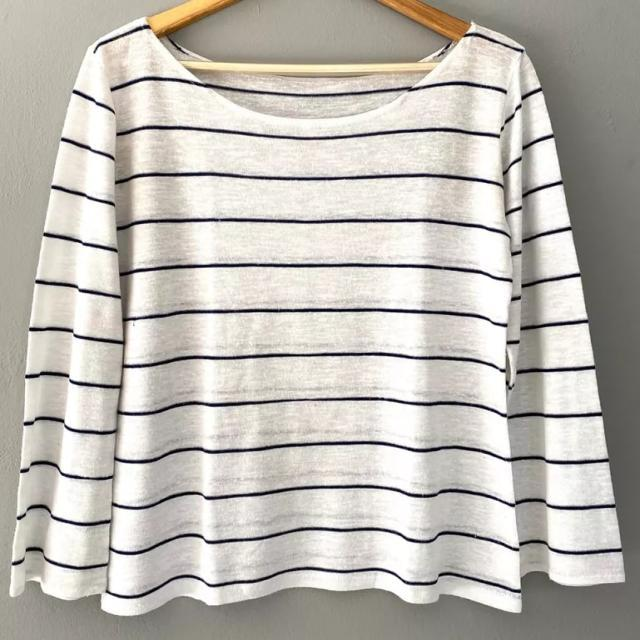sweater: (10, 9, 630, 615)
